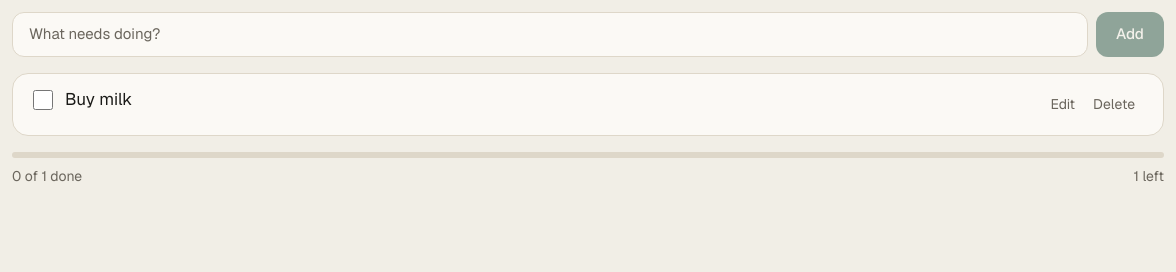
it: TodoList › deletes a todo
This screenshot has width=1176, height=272.
expect the text "Buy milk" is shown: met, box [65,88,132,110]
Click the button "Delete" at (1114, 104), box [1085,88,1143,120]
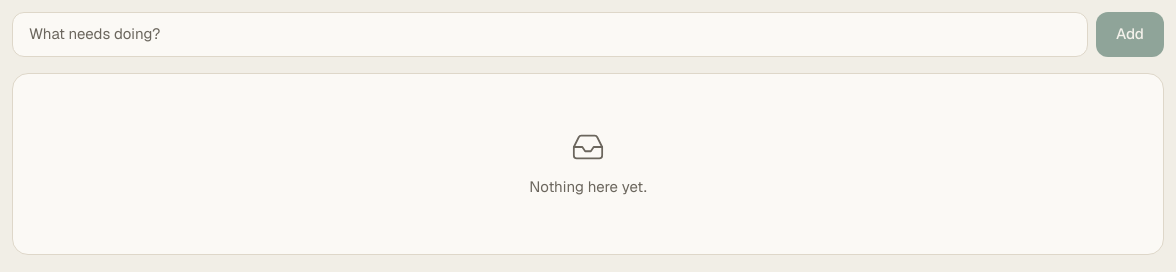
expect the text "Buy milk" is gone: met
